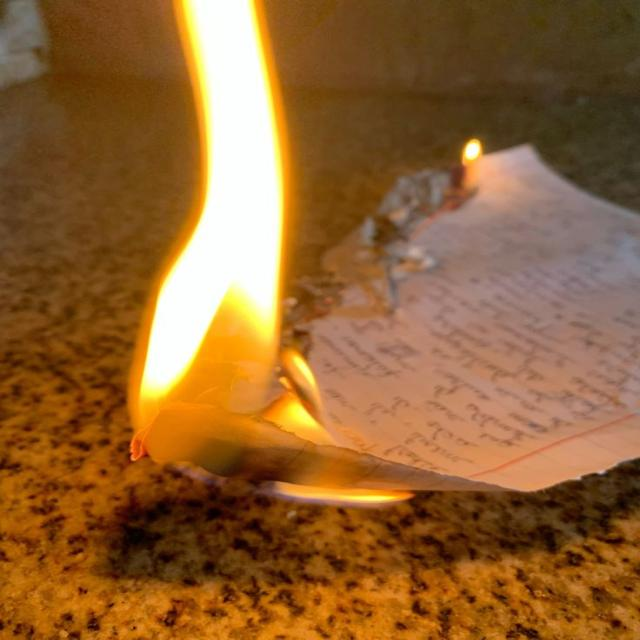fire: (138, 0, 314, 422), (271, 479, 412, 505)
